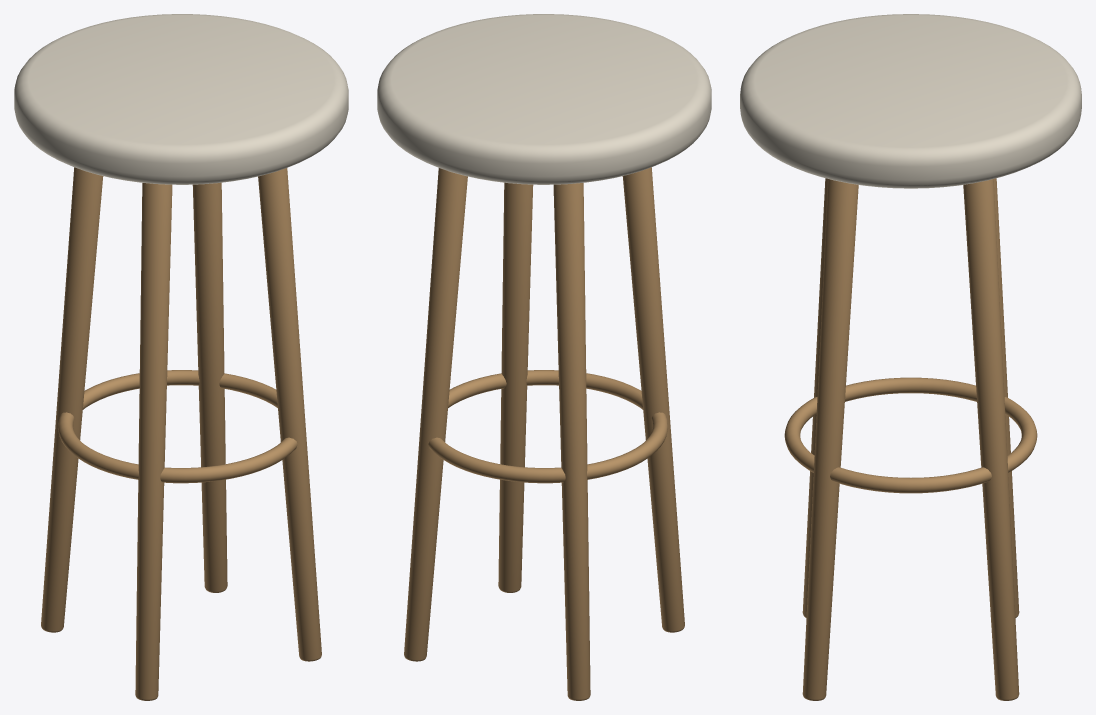
Rendered from taburete.glb.
3 views of the same model, side by side, from view 1: azimuth 30°, elevation 25°; view 2: azimuth 150°, elevation 25°; view 3: azimuth 270°, elevation 25° (orthographic). The views are drawn at different scales.
Parts seen in each view (by area): view 1: Asiento, Pata.007, Pata.008, Pata.006, Pata.005, Aro; view 2: Asiento, Pata.006, Pata.005, Pata.007, Pata.008, Aro; view 3: Asiento, Pata.005, Pata.008, Aro, Pata.006, Pata.007.
Boxes of the visible parts, x1=… form: Asiento: x1=14, y1=14, x2=348, y2=184; Pata.007: x1=135, y1=183, x2=172, y2=700; Pata.008: x1=258, y1=168, x2=321, y2=661; Pata.006: x1=41, y1=167, x2=103, y2=632; Pata.005: x1=192, y1=182, x2=227, y2=592; Aro: x1=58, y1=370, x2=297, y2=483; Asiento: x1=377, y1=14, x2=711, y2=184; Pata.006: x1=553, y1=183, x2=590, y2=700; Pata.005: x1=404, y1=168, x2=467, y2=661; Pata.007: x1=622, y1=167, x2=684, y2=632; Pata.008: x1=498, y1=182, x2=533, y2=592; Aro: x1=428, y1=370, x2=667, y2=483; Asiento: x1=740, y1=14, x2=1081, y2=188; Pata.005: x1=963, y1=179, x2=1019, y2=700; Pata.008: x1=802, y1=179, x2=858, y2=700; Aro: x1=784, y1=377, x2=1037, y2=493; Pata.006: x1=993, y1=178, x2=1019, y2=617; Pata.007: x1=802, y1=178, x2=828, y2=617.
Size of the model in its own units: 0.35 by 0.6507 by 0.35.
